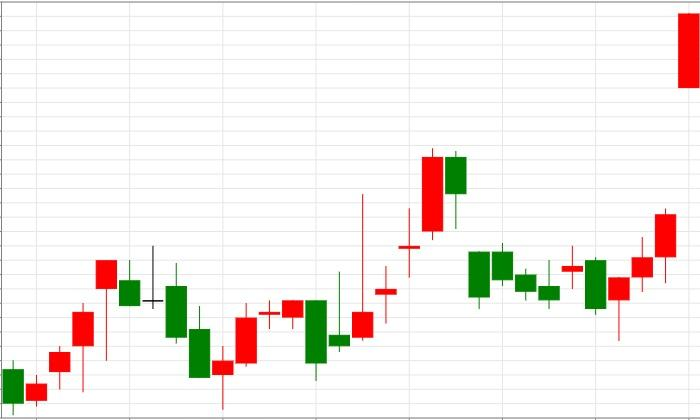bearish_engulfing_fall: (211, 300, 327, 409)
three_white_soldiers_rise: (561, 208, 677, 342)
